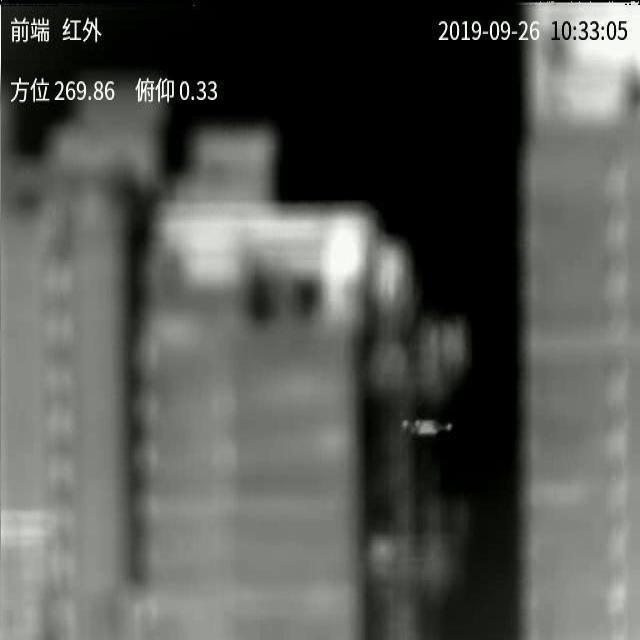drone: (401, 419, 452, 434)
